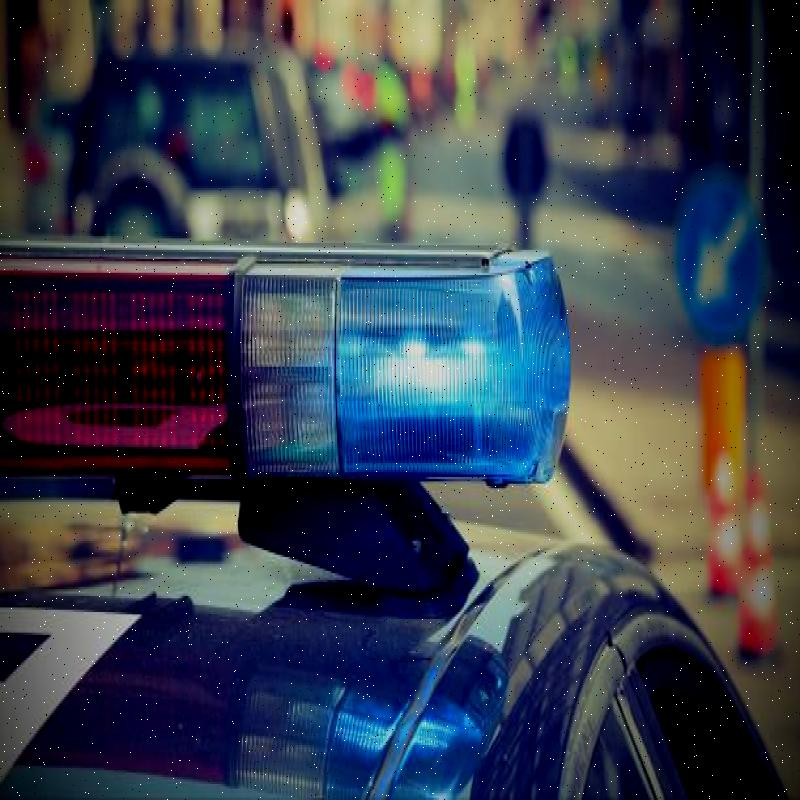AmbulanceSiren: (0, 222, 581, 506)
